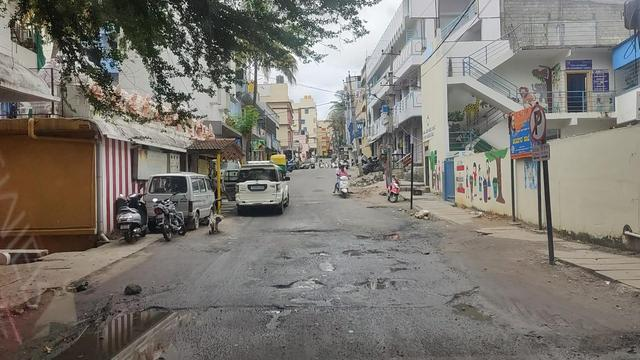LMV: (334, 165, 351, 196)
RoadDamages: (82, 278, 207, 357), (447, 287, 486, 321), (344, 275, 413, 291), (264, 222, 330, 236), (278, 273, 321, 294), (259, 304, 288, 330), (311, 248, 334, 271), (344, 246, 385, 258), (354, 231, 394, 242), (270, 249, 291, 262)
